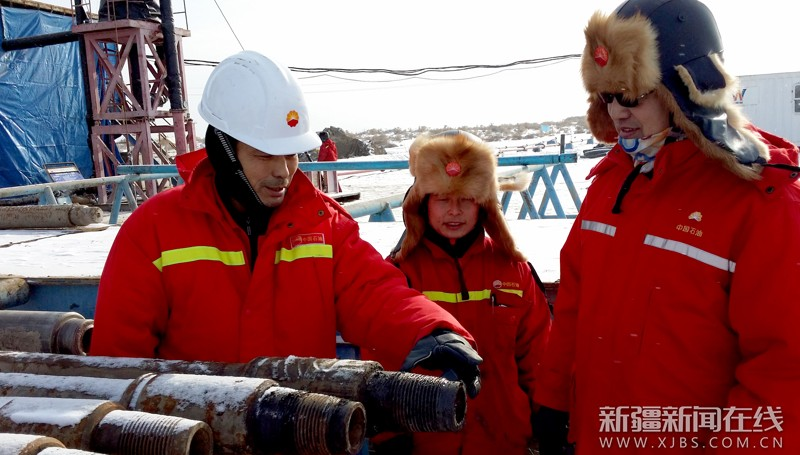helmet: (189, 47, 338, 221)
